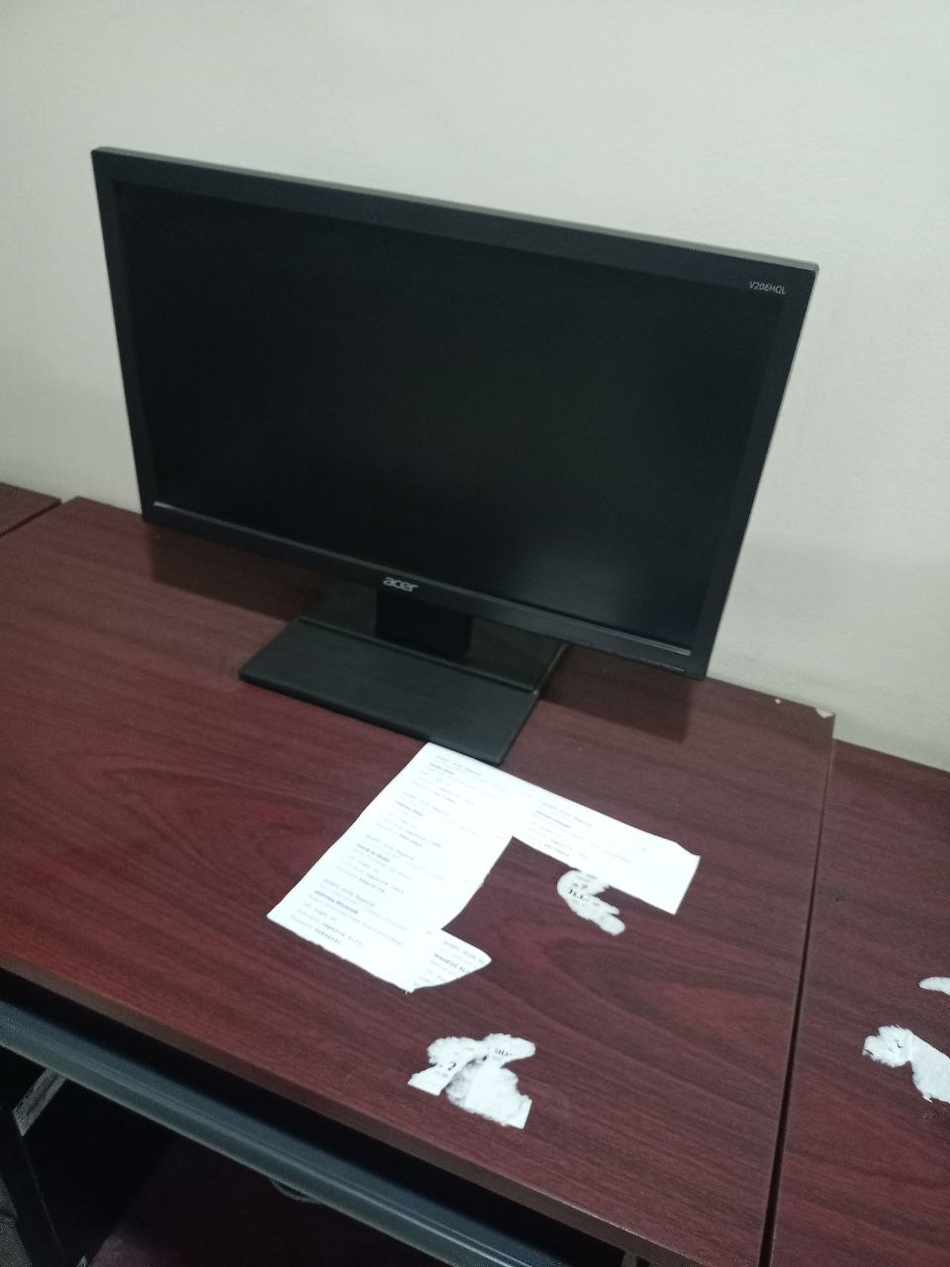computer monitor: (93, 150, 813, 759)
